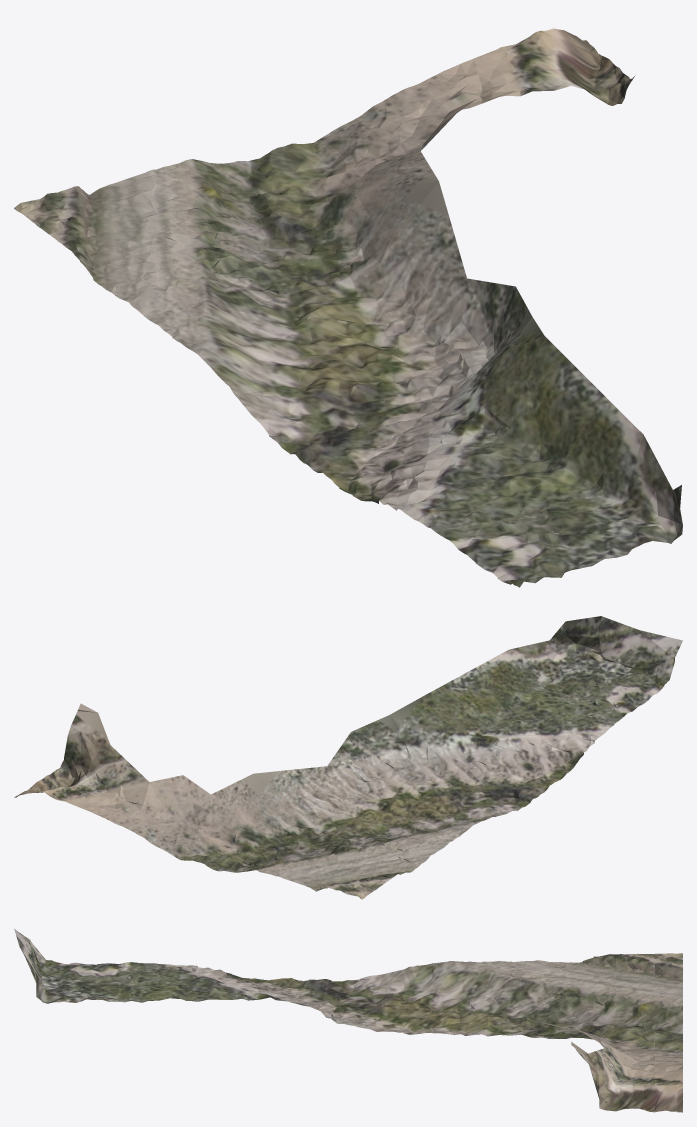
Rendered from MODELO33.GLB.
3 renders of one model, top to bottom at view 1: azimuth 30°, elevation 25°; view 2: azimuth 150°, elevation 25°; view 3: azimuth 270°, elevation 25°, orthographic. The views are drawn at different scales.
Bounding box in the file's own units: 37.56 × 10.53 × 60.
1 material, 1 textured.
